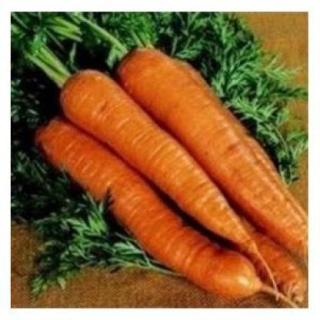Wortel: (120, 51, 307, 260), (59, 70, 252, 249)
